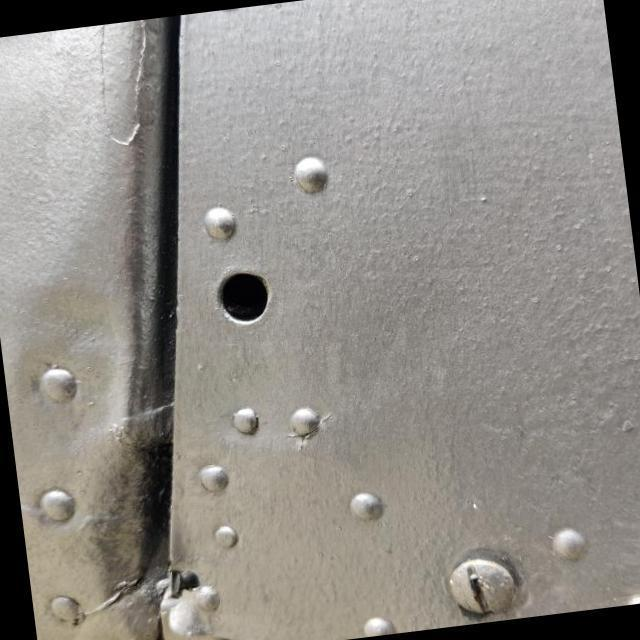Fastener Damage: (176, 223, 320, 366)
